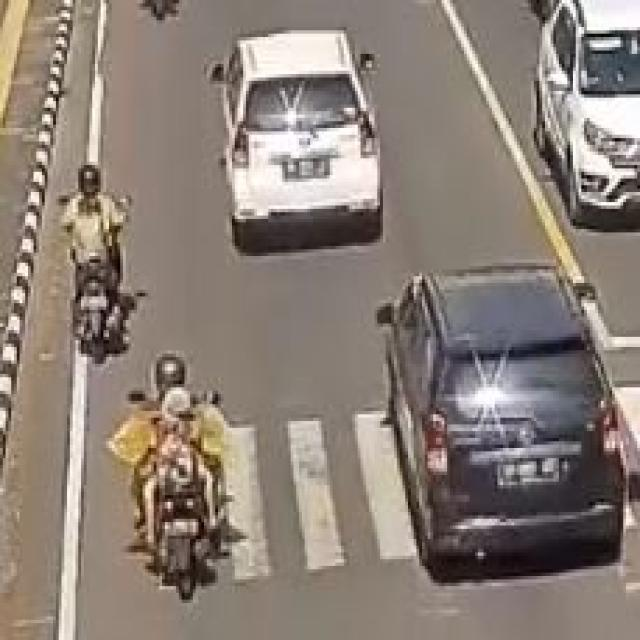car: (388, 266, 629, 573), (219, 42, 418, 249), (524, 5, 640, 221)
motorbike: (122, 355, 255, 583), (42, 157, 126, 362)
